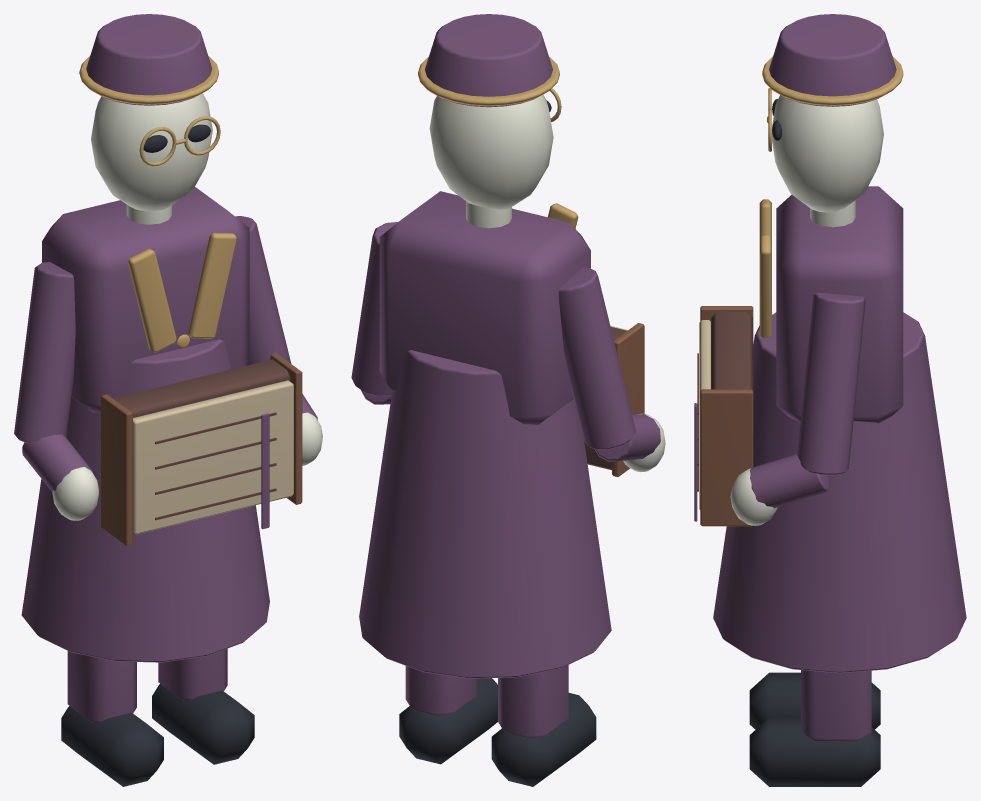
File: traveler_archivist.glb
3 renders of one model, left to right at view 1: azimuth 30°, elevation 25°; view 2: azimuth 150°, elevation 25°; view 3: azimuth 270°, elevation 25°, orthographic.
Visible parts, largest first — view 1: traveler_archivist; view 2: traveler_archivist; view 3: traveler_archivist.
Boxes of the visible parts, box(x1,y1,x2,y2) form: traveler_archivist: box(14, 14, 322, 786); traveler_archivist: box(351, 14, 665, 786); traveler_archivist: box(694, 14, 966, 786).
Bounding box in the file's own units: 0.9034 × 2.26 × 0.7708.
